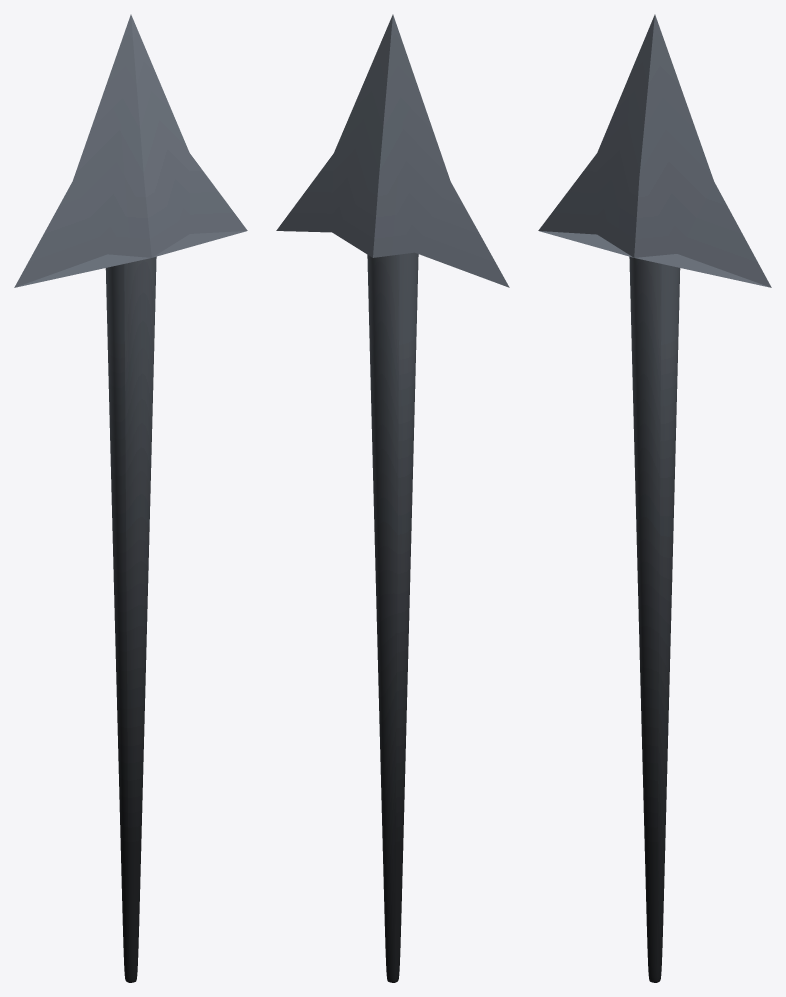
The model's file is Arrow_4.fbx.
3 renders of one model, left to right at view 1: azimuth 30°, elevation 25°; view 2: azimuth 150°, elevation 25°; view 3: azimuth 330°, elevation 25°, orthographic.
Parts seen in each view (by area): view 1: Arrow_01; view 2: Arrow_01; view 3: Arrow_01.
Boxes of the visible parts, bbox=[...] form: Arrow_01: bbox=[14, 14, 247, 982]; Arrow_01: bbox=[276, 14, 509, 982]; Arrow_01: bbox=[538, 14, 771, 982].
Size of the model in its own units: 17.74 by 70.11 by 5.37.
